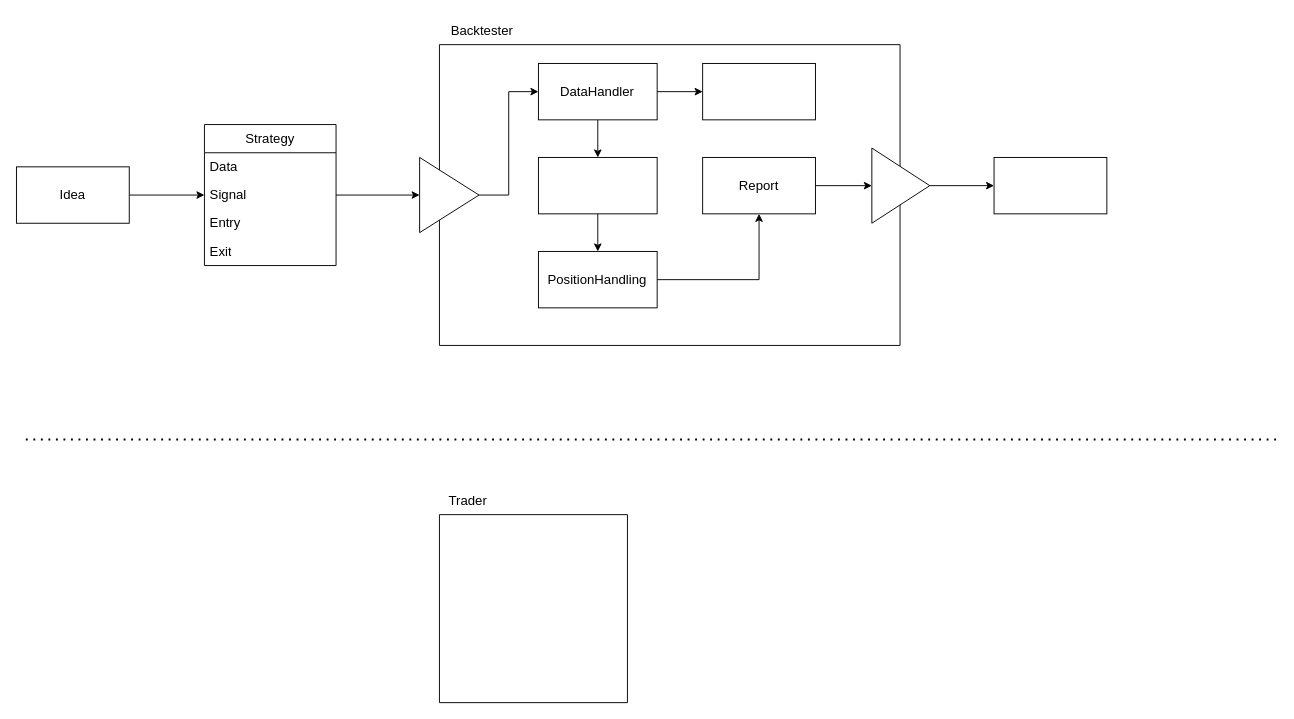
The diagram is 1294 pixels wide and 719 high, and some of its shapes have lost their labels. Here are the shapes that lost their labels. From the top down, the centre of each, then its label:
At (x=758, y=91): "DataProvider".
At (x=597, y=185): "SignalProcessor".
At (x=1050, y=185): "ReportEvaluator".
